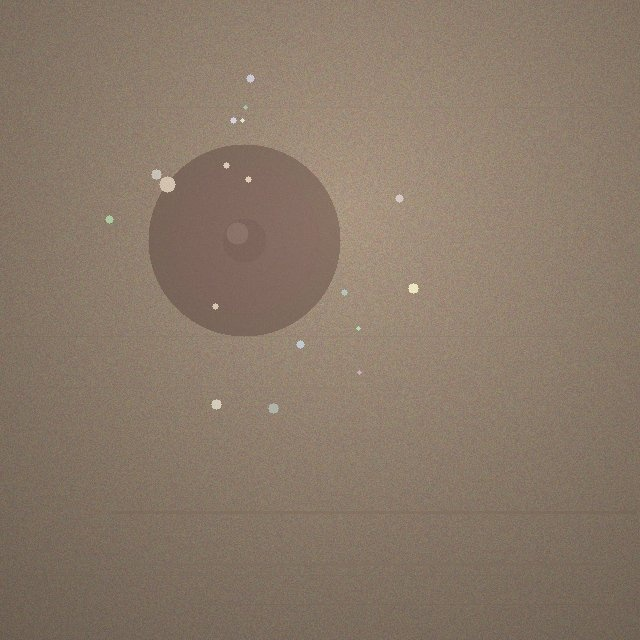overburn: (148, 144, 340, 336)
